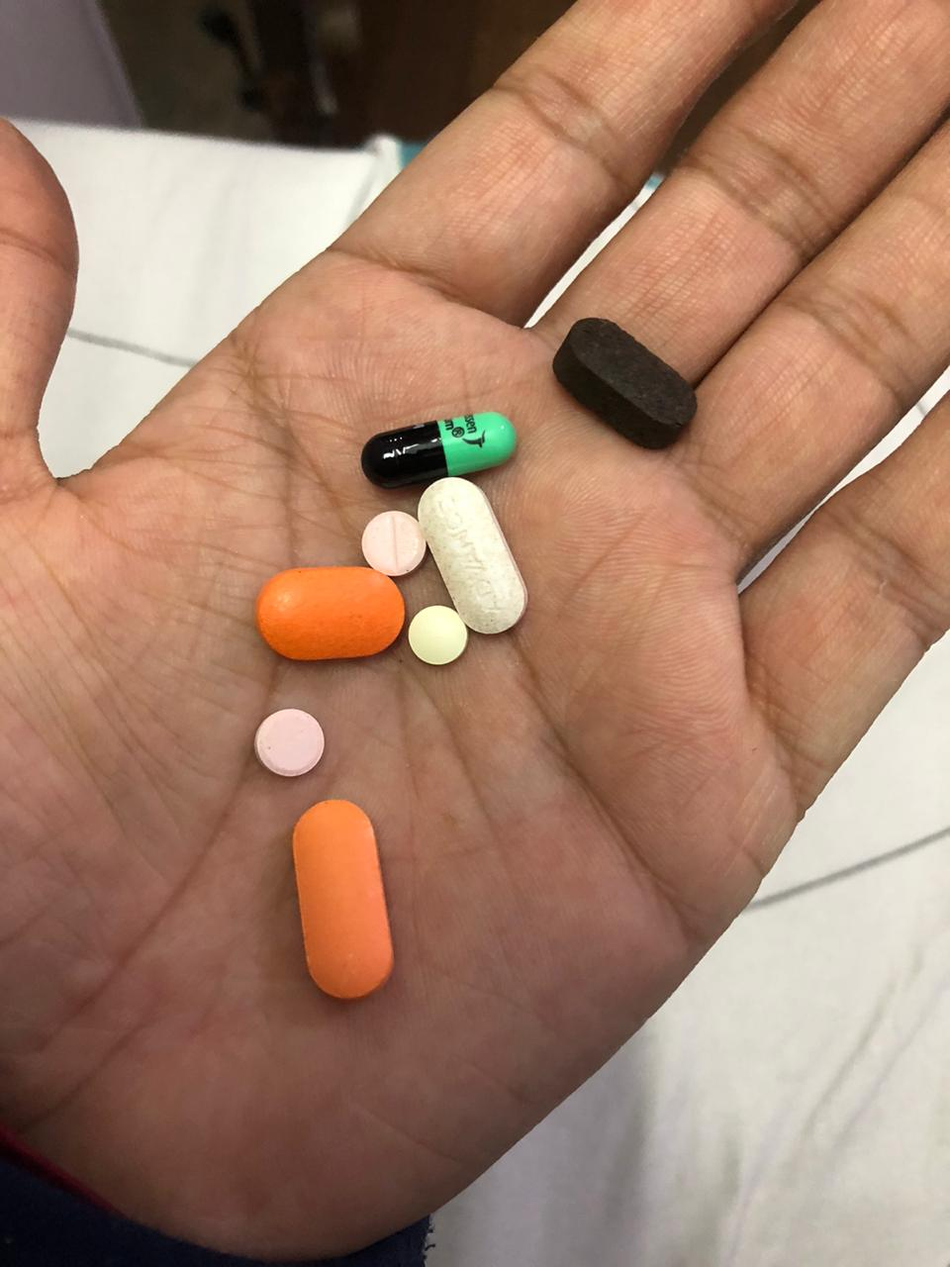tablets: (290, 800, 399, 1001), (557, 318, 698, 450), (413, 476, 529, 634), (252, 563, 403, 662), (361, 407, 520, 491), (254, 706, 330, 777), (361, 506, 428, 577), (405, 607, 470, 666)
